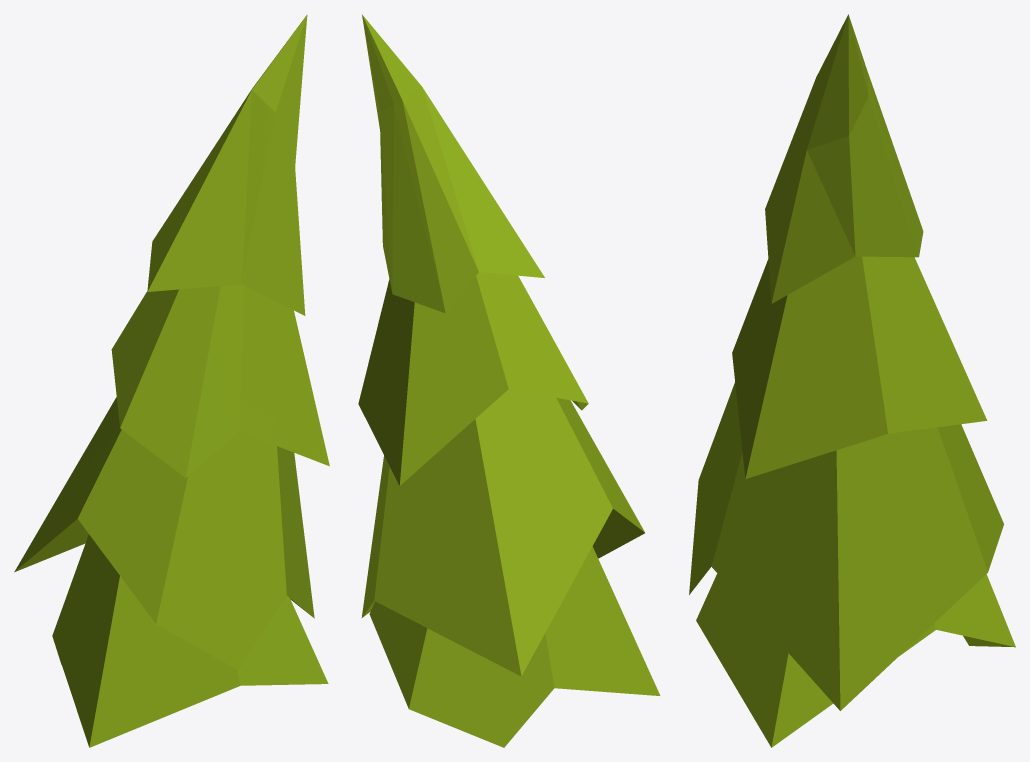
Rendered from Vegetation_Modular_Tree_Foliage_Alpine_02.fbx.
3 views of the same model, side by side, from view 1: azimuth 30°, elevation 25°; view 2: azimuth 150°, elevation 25°; view 3: azimuth 270°, elevation 25° (orthographic). The views are drawn at different scales.
Parts seen in each view (by area): view 1: Vegetation_Modular_Tree_Foliage_Alpine_02; view 2: Vegetation_Modular_Tree_Foliage_Alpine_02; view 3: Vegetation_Modular_Tree_Foliage_Alpine_02.
Part boxes in pixels (x1,y1,x2,y2): Vegetation_Modular_Tree_Foliage_Alpine_02: [14, 14, 329, 747]; Vegetation_Modular_Tree_Foliage_Alpine_02: [358, 14, 660, 747]; Vegetation_Modular_Tree_Foliage_Alpine_02: [689, 14, 1015, 747].
Size of the model in its own units: 90.69 by 213 by 85.37.
